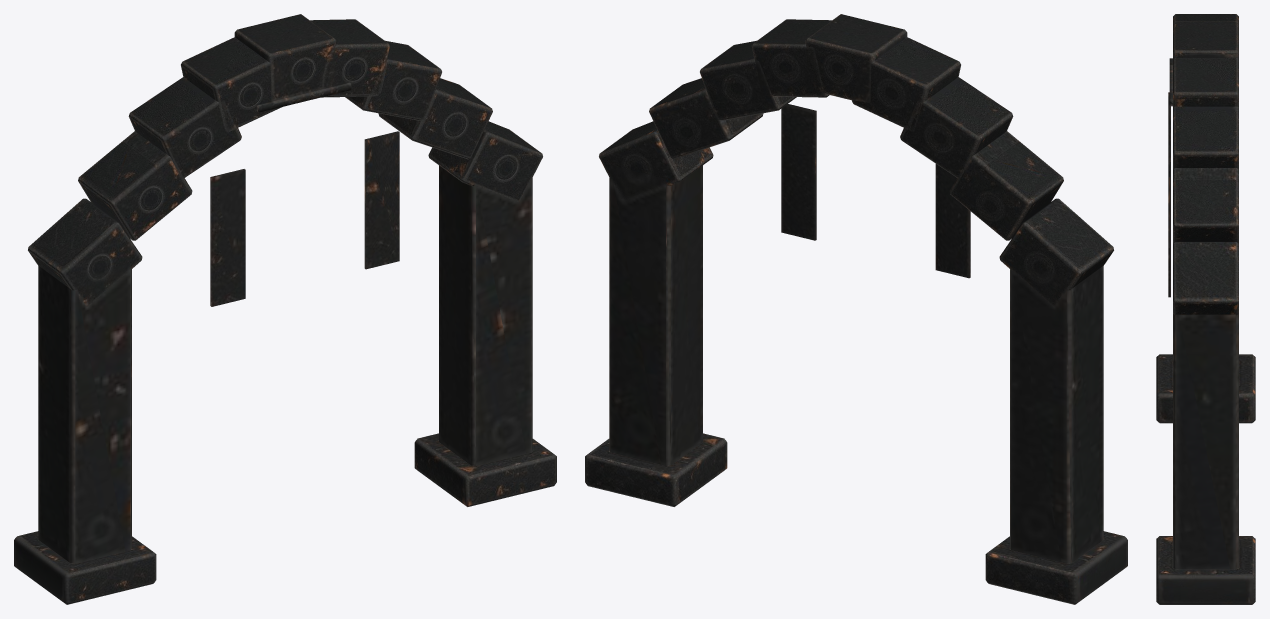
Rendered from heatsink_thermalArchIron.7d727eff.glb.
3 views of the same model, side by side, from view 1: azimuth 30°, elevation 25°; view 2: azimuth 150°, elevation 25°; view 3: azimuth 270°, elevation 25° (orthographic). The views are drawn at different scales.
Size of the model in its own units: 2 by 1.91 by 0.375.
1 material, 1 textured.
